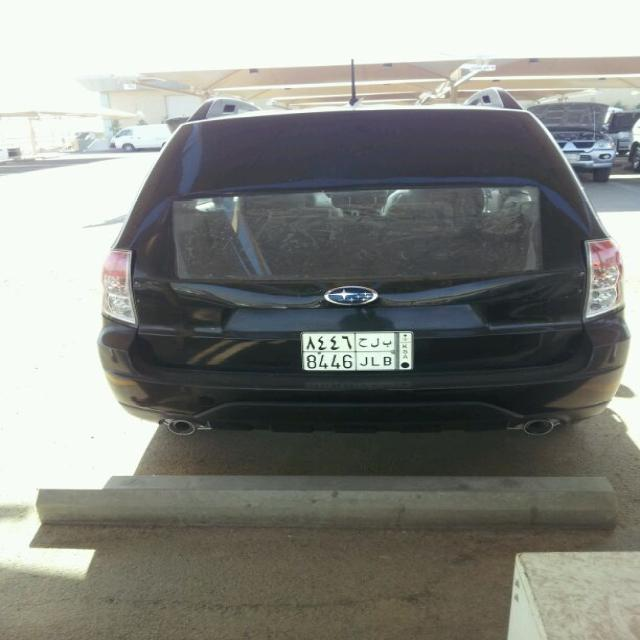license_plate: (298, 329, 417, 374)
